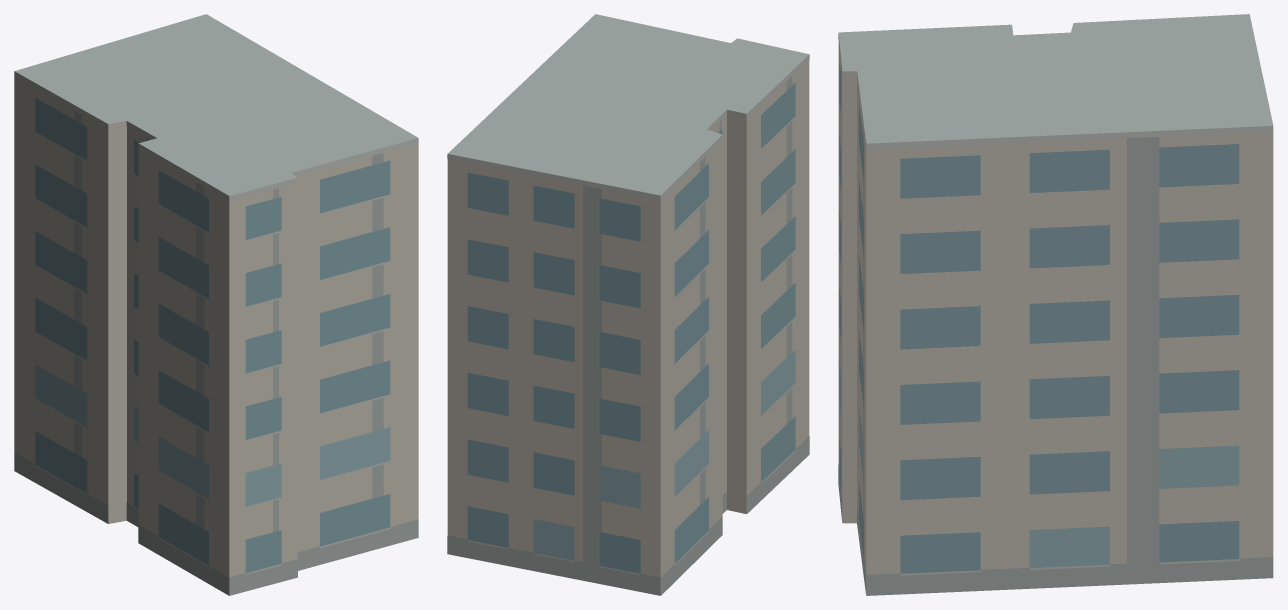
The model's file is survey-upis-32563214.glb.
3 renders of one model, left to right at view 1: azimuth 30°, elevation 25°; view 2: azimuth 150°, elevation 25°; view 3: azimuth 270°, elevation 25°, orthographic. The views are drawn at different scales.
Visible parts, largest first — view 1: survey-upis-32563214.tmp; view 2: survey-upis-32563214.tmp; view 3: survey-upis-32563214.tmp.
Boxes of the visible parts, bbox=[...] form: survey-upis-32563214.tmp: bbox=[14, 14, 418, 595]; survey-upis-32563214.tmp: bbox=[447, 14, 809, 595]; survey-upis-32563214.tmp: bbox=[838, 14, 1273, 595].
Bounding box in the file's own units: 11.26 × 18.3 × 15.96.
